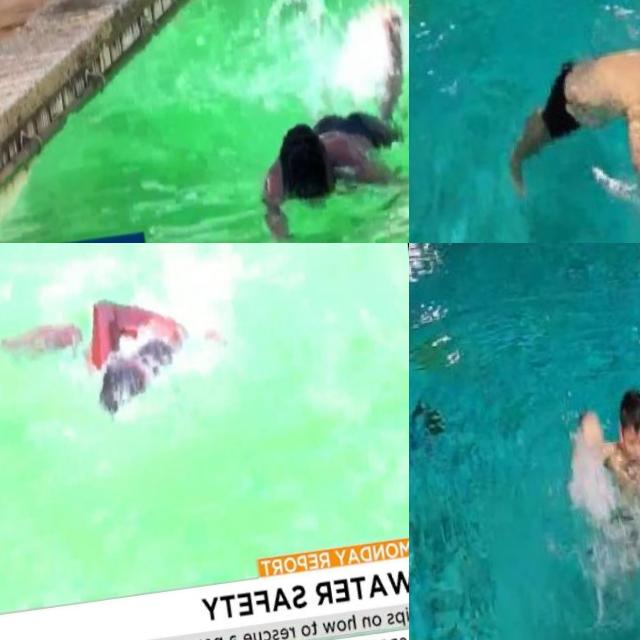drowning: (486, 19, 640, 229), (551, 363, 640, 604)
swimming: (0, 252, 251, 449), (218, 0, 409, 243)
